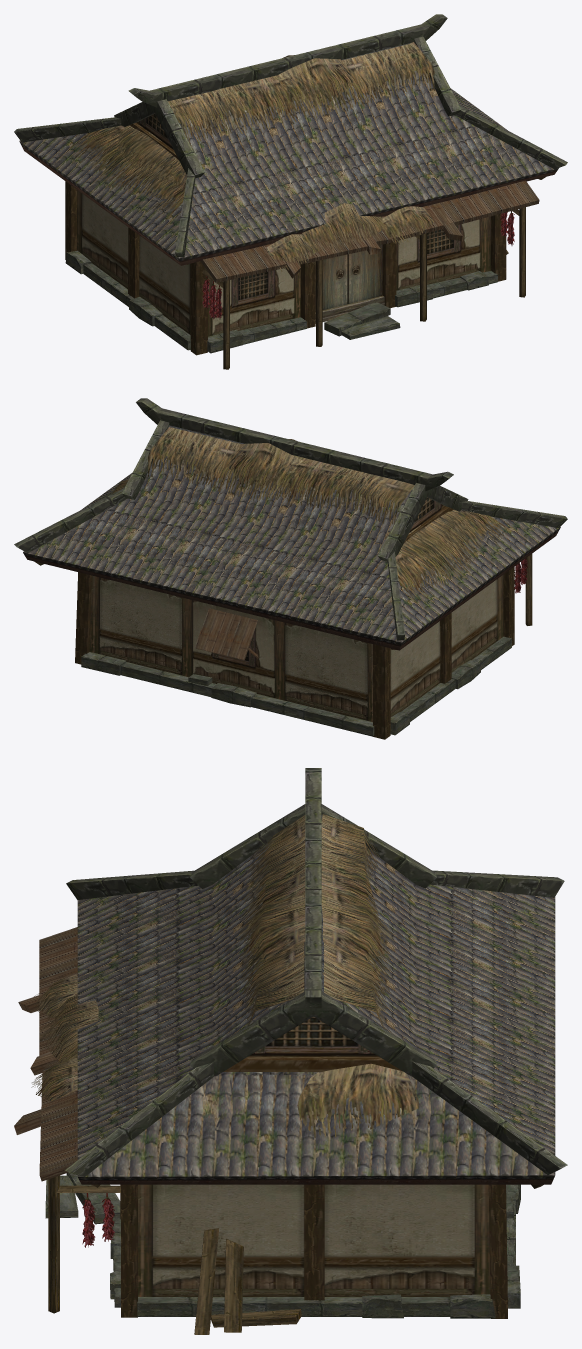
The model's file is minju_yc_28.fbx.
3 views of the same model, one above another, from view 1: azimuth 30°, elevation 25°; view 2: azimuth 150°, elevation 25°; view 3: azimuth 270°, elevation 25° (orthographic). The views are drawn at different scales.
Parts seen in each view (by area): view 1: minju_yc_28; view 2: minju_yc_28; view 3: minju_yc_28.
Boxes of the visible parts, x1=… form: minju_yc_28: x1=14, y1=14, x2=567, y2=369; minju_yc_28: x1=14, y1=398, x2=567, y2=739; minju_yc_28: x1=14, y1=768, x2=567, y2=1334.
Size of what is drawn, in the model's own units: 1273 by 673 by 1040.
